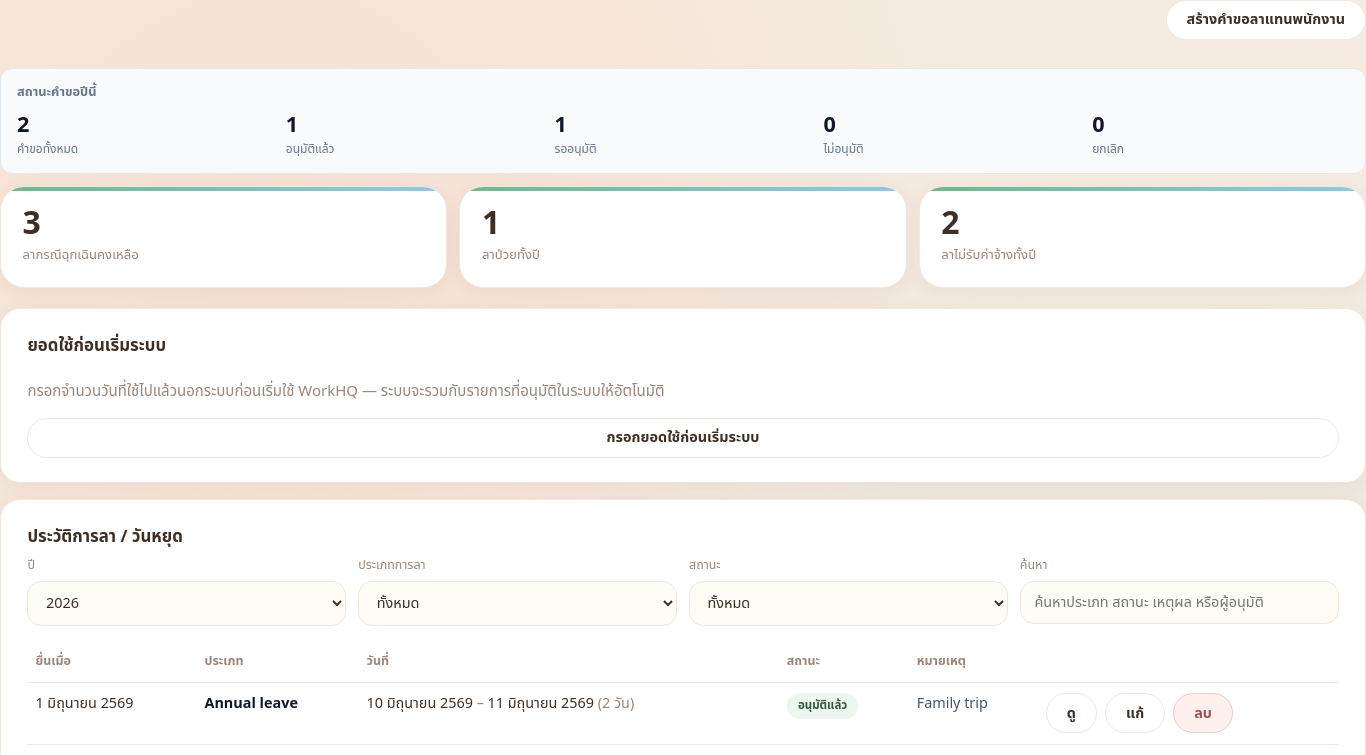
Test case: EmployeeLeaveTab › searches history rows
This screenshot has width=1366, height=755.
expect the row with test id "leave-row-lr-1" is shown: met, box [27, 682, 1339, 744]
In the search field with test id "leave-search": (1179, 602) [1020, 581, 1339, 624], type "flu"
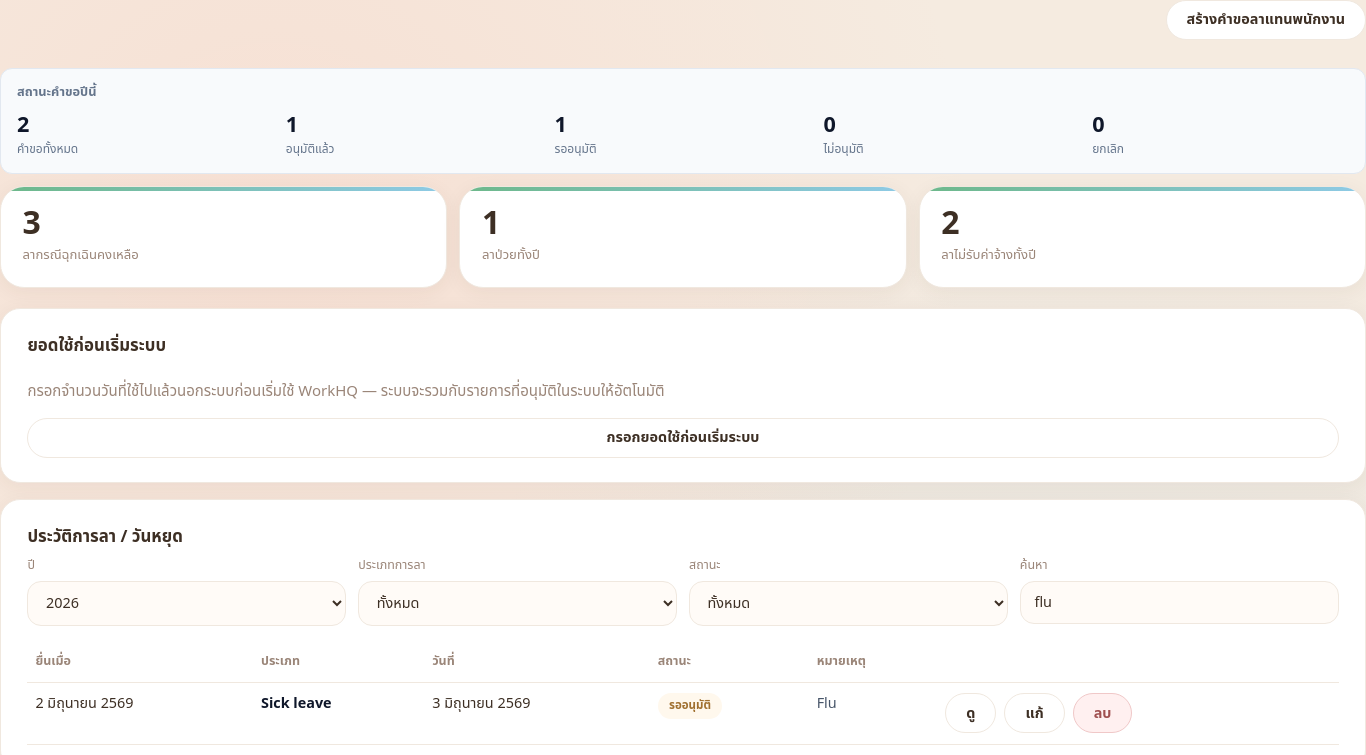
expect the row with test id "leave-row-lr-2" is shown: met, box [27, 682, 1339, 744]
expect the row with test id "leave-row-lr-1" is gone: met
